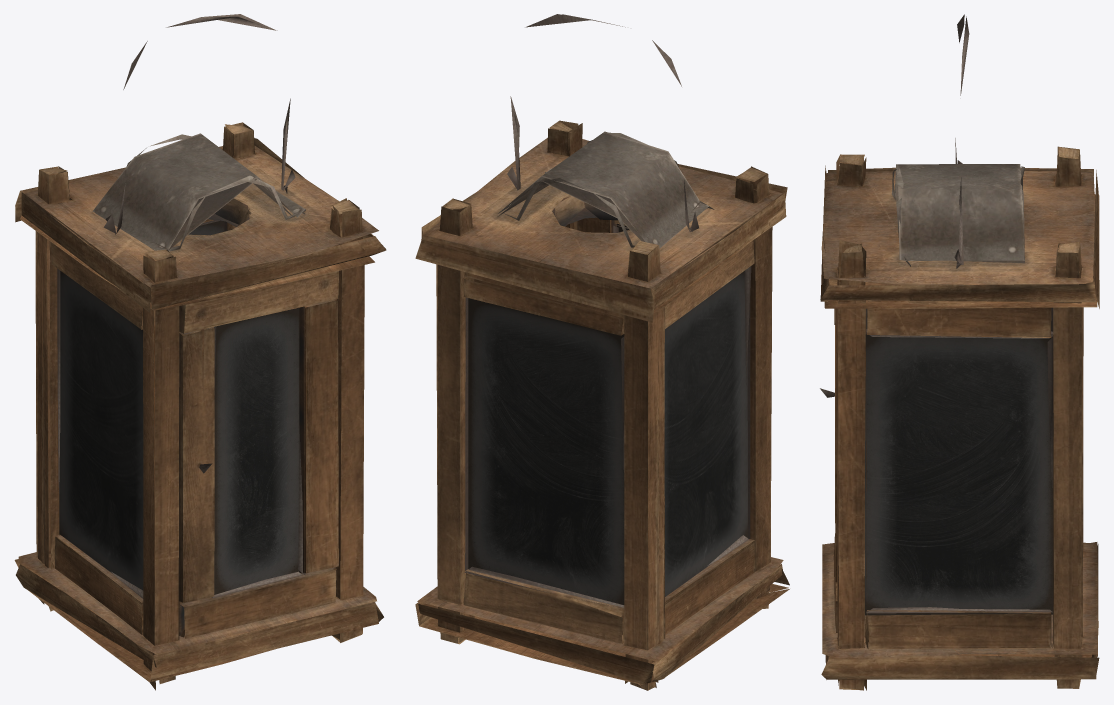
The model's file is lantern.glb.
The picture shows the model from 3 angles, left to right: view 1: azimuth 30°, elevation 25°; view 2: azimuth 150°, elevation 25°; view 3: azimuth 270°, elevation 25°; orthographic projection. The views are drawn at different scales.
Visible parts, largest first — view 1: wooden_lantern_01; view 2: wooden_lantern_01; view 3: wooden_lantern_01.
Part boxes in pixels (<box>): wooden_lantern_01: <box>14,14,386,690</box>; wooden_lantern_01: <box>415,14,789,690</box>; wooden_lantern_01: <box>820,14,1099,690</box>.
Bounding box in the file's own units: 0.2185 × 0.5267 × 0.2181.
Materials: 2 (2 with a texture image).
